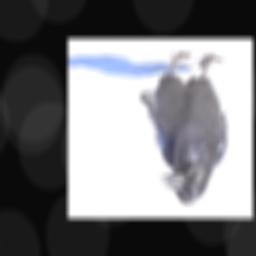Crow: (138, 50, 228, 206)
